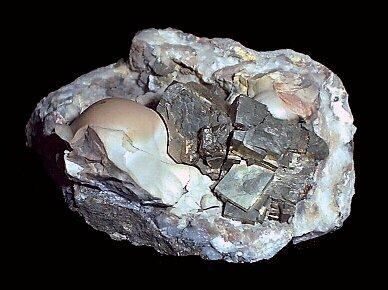pyrite: (157, 82, 329, 224)
